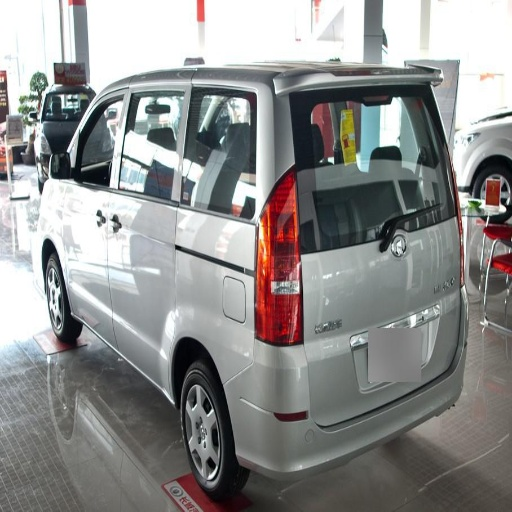back_bumper: (222, 340, 459, 506)
back_glass: (327, 88, 442, 206)
back_left_door: (121, 92, 171, 198)
back_left_light: (252, 205, 303, 345)
tailgate: (354, 308, 452, 404)
trunk: (300, 212, 454, 423), (135, 208, 244, 369)
